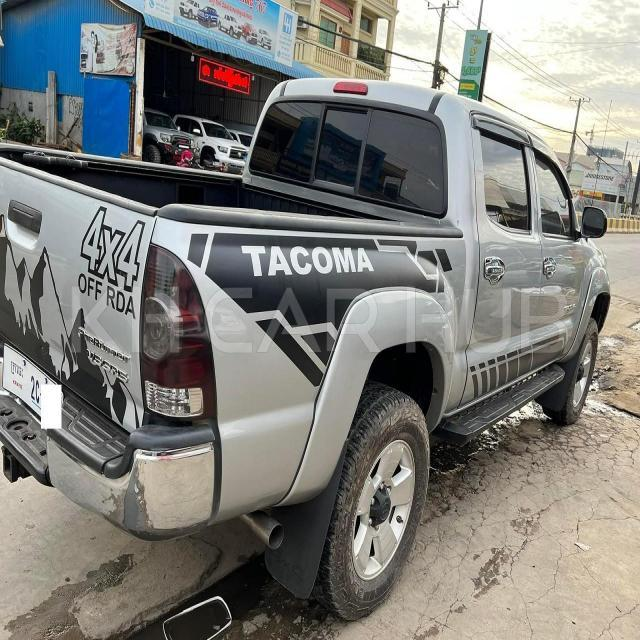Kratie: (10, 360, 24, 378)
